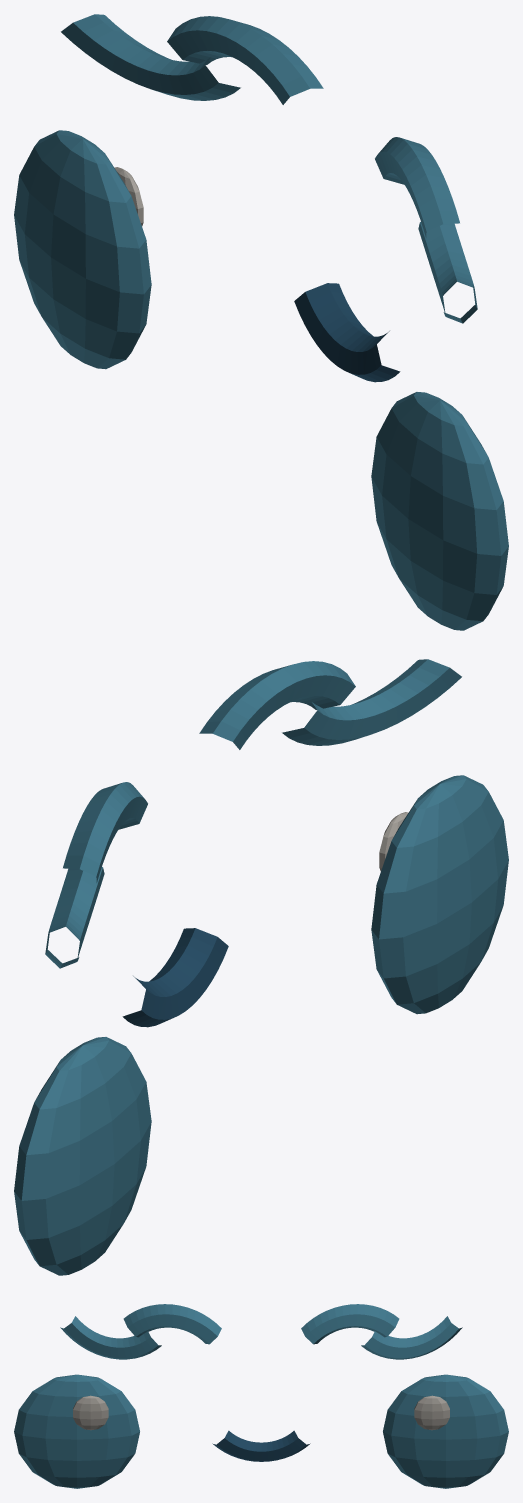
Rendered from tidal.glb.
3 renders of one model, top to bottom at view 1: azimuth 30°, elevation 25°; view 2: azimuth 150°, elevation 25°; view 3: azimuth 270°, elevation 25°, orthographic. The views are drawn at different scales.
Visible parts, largest first — view 1: face-tidal; view 2: face-tidal; view 3: face-tidal.
Boxes of the visible parts, left/top/right/bottom form: face-tidal: left=14, top=14, right=508, bottom=630; face-tidal: left=14, top=659, right=508, bottom=1275; face-tidal: left=14, top=1304, right=508, bottom=1488.
Size of the model in its own units: 0.0253 by 0.0649 by 0.145.
